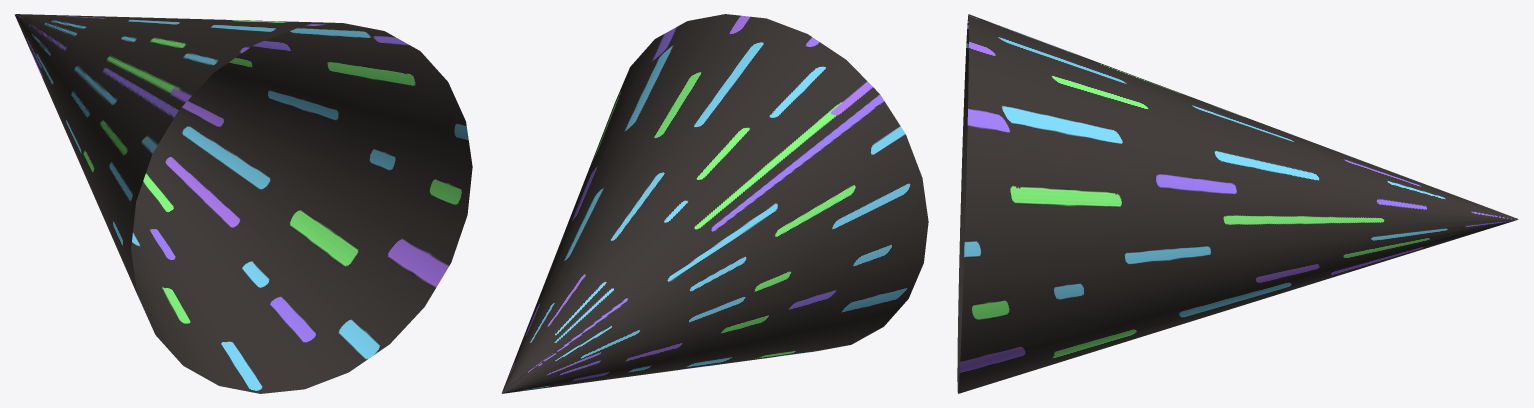
File: BackWall1.FBX
3 renders of one model, left to right at view 1: azimuth 30°, elevation 25°; view 2: azimuth 150°, elevation 25°; view 3: azimuth 270°, elevation 25°, orthographic. The views are drawn at different scales.
Parts seen in each view (by area): view 1: Cone001; view 2: Cone001; view 3: Cone001.
Part boxes in pixels (box(x1,y1,x2,y2)): Cone001: box(14, 14, 472, 393); Cone001: box(501, 14, 928, 393); Cone001: box(957, 14, 1518, 393).
Size of the model in its own units: 79.44 by 79.4 by 117.
1 material, 1 textured.
